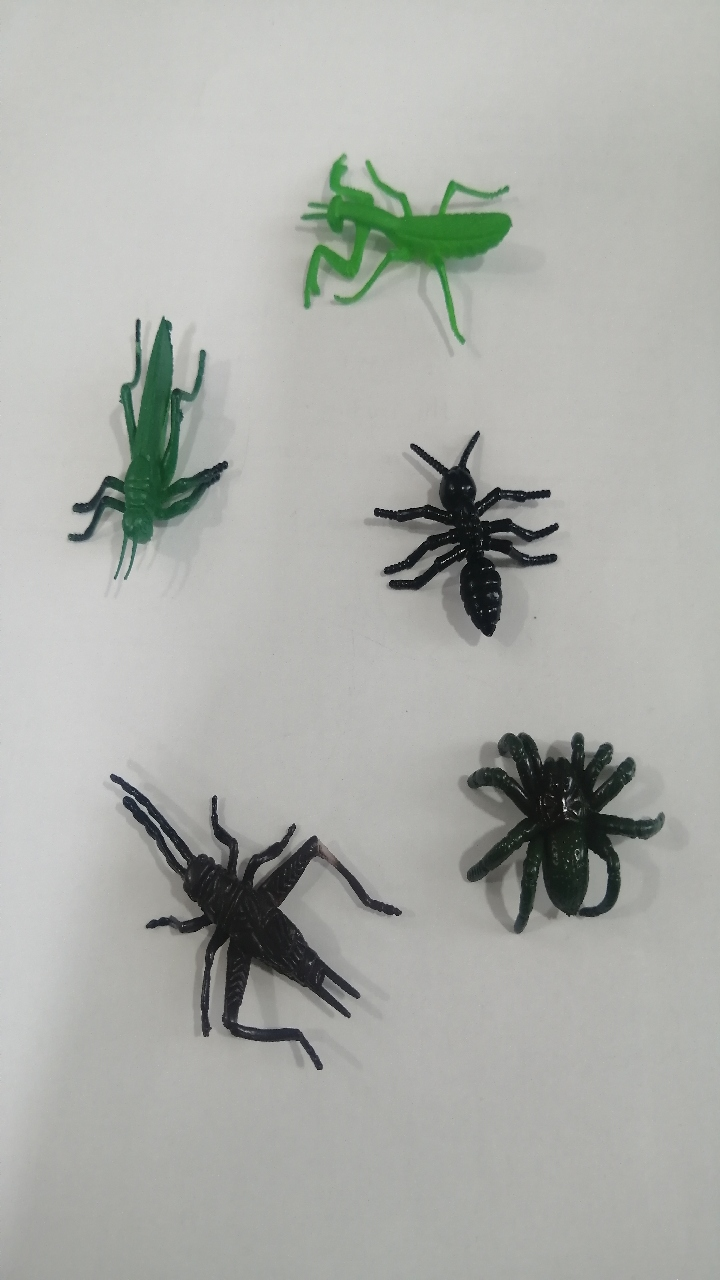intruso: (48, 708, 424, 1079), (435, 662, 689, 988), (49, 288, 258, 632), (341, 399, 592, 672), (269, 115, 523, 369)
